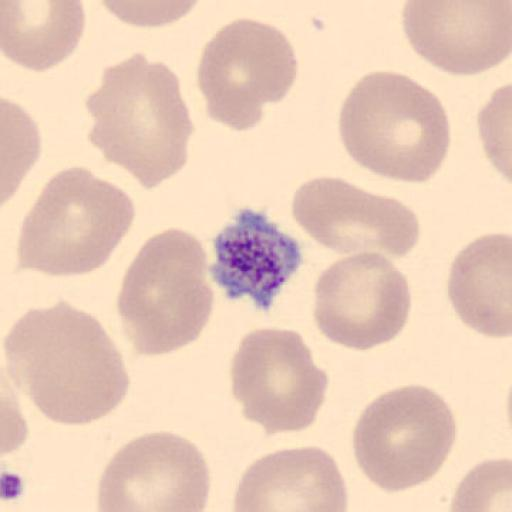Platelet: (206, 208, 306, 310)
RBC: (9, 299, 130, 429), (85, 52, 194, 190), (16, 165, 136, 278), (337, 68, 451, 184), (116, 229, 215, 358), (196, 13, 299, 132), (289, 174, 422, 265), (350, 383, 458, 494), (229, 326, 330, 436), (312, 250, 413, 352), (96, 430, 213, 512), (400, 1, 512, 77), (232, 443, 350, 512), (446, 230, 512, 339), (0, 0, 88, 72), (1, 94, 42, 208), (476, 80, 512, 184), (448, 455, 512, 512), (95, 0, 204, 30), (0, 344, 27, 458), (1, 384, 29, 486), (2, 391, 28, 458)
